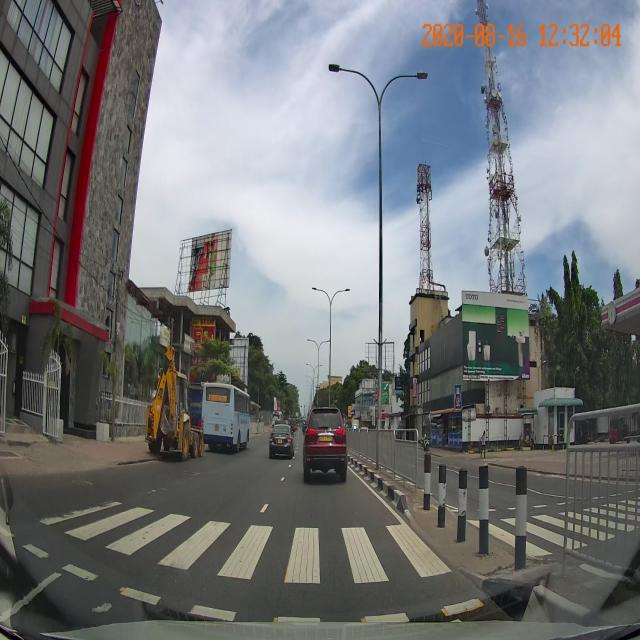Crosswalk: (13, 485, 640, 626)
